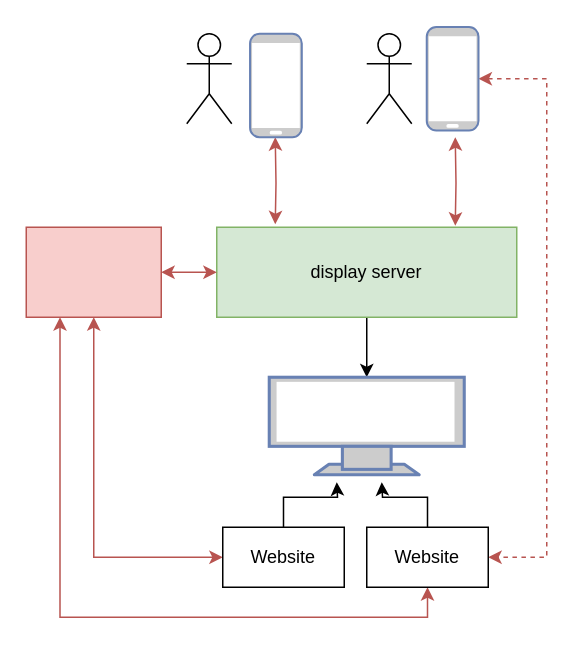
Some shapes in this 587 by 657 pixel diagram are drawn without their labels. The shapes that lost their labels are listed below. From the top down, each one's centre as x and y in pixels, then its label:
At (x=93, y=271): "Reagent".
At (x=366, y=425): "Large Display".
